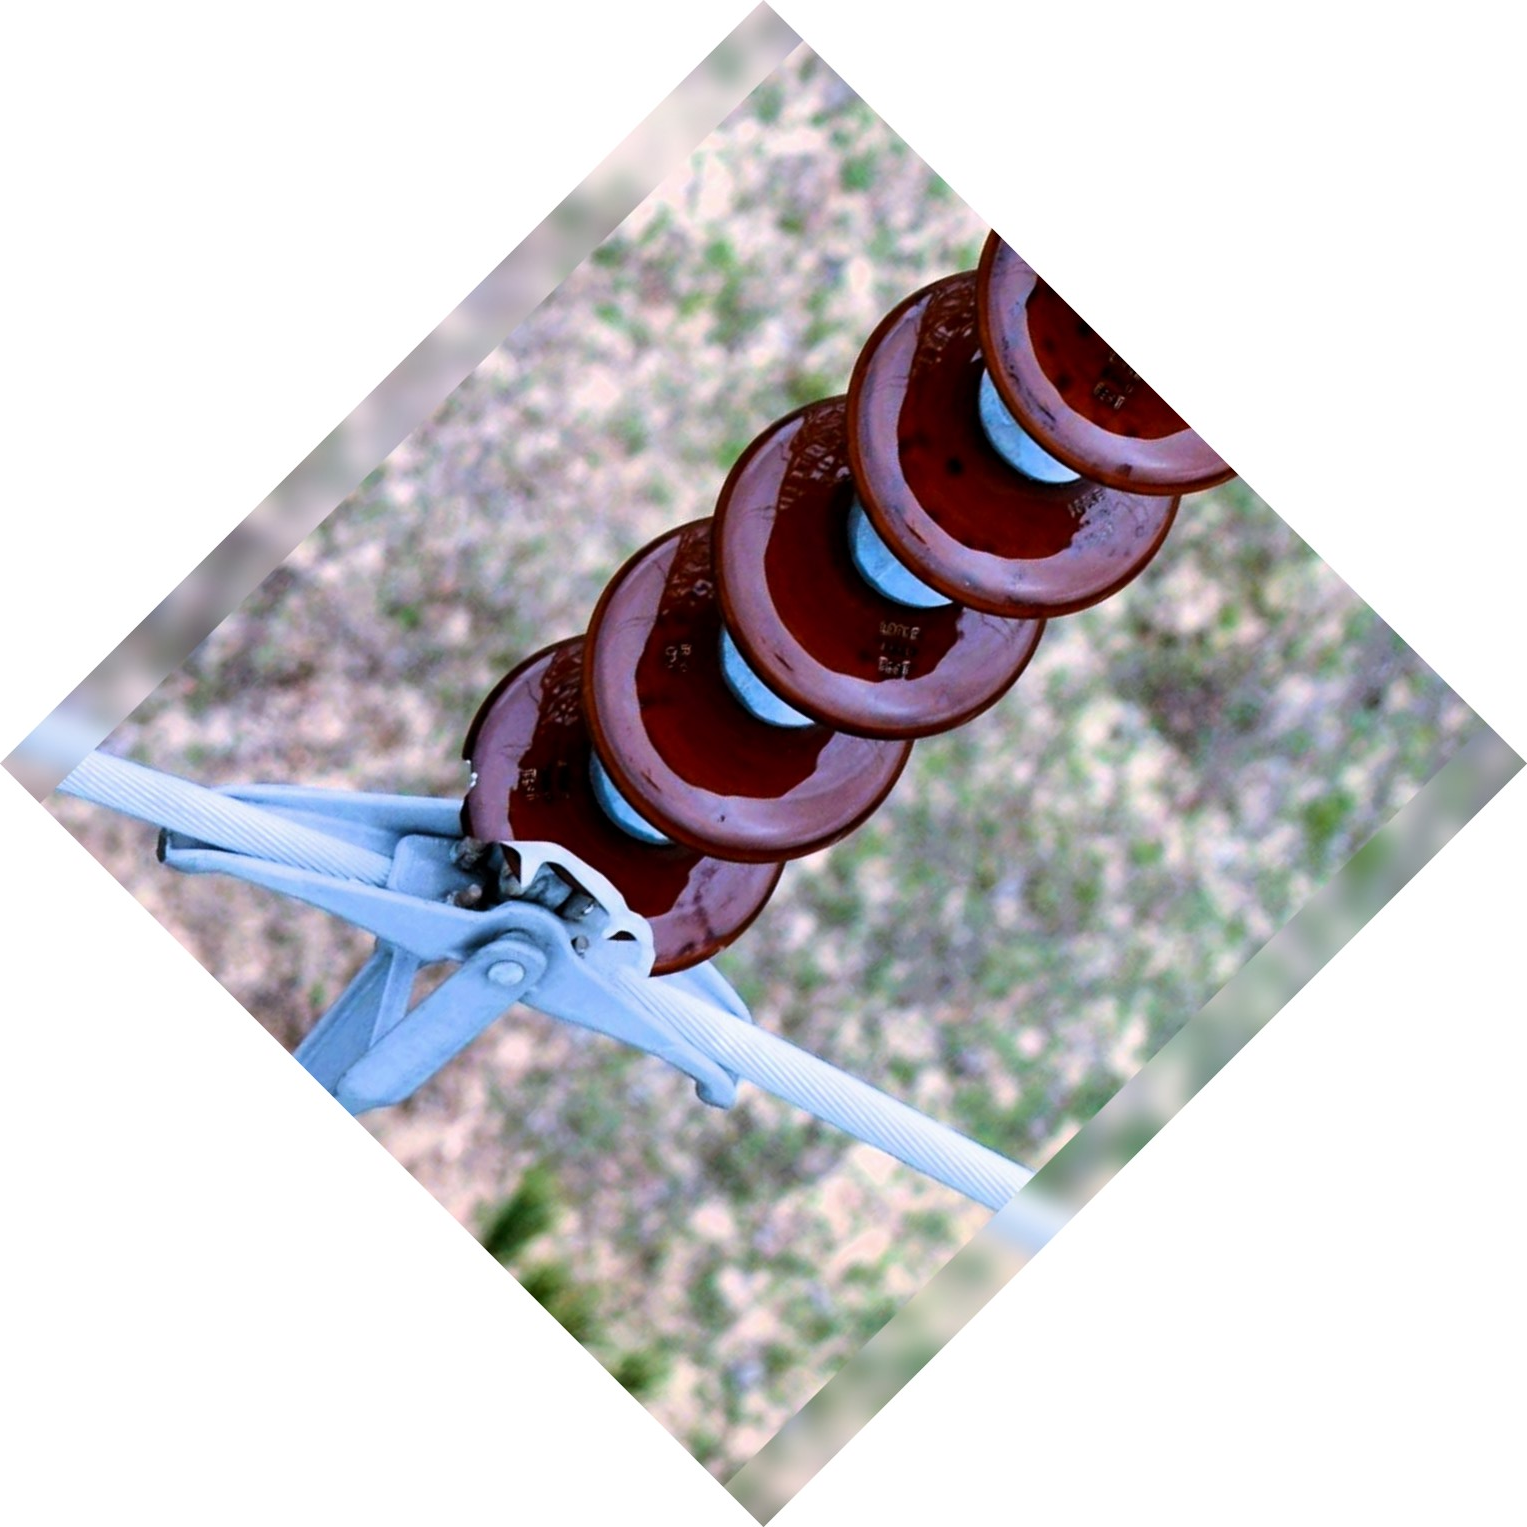insulator breakage: (432, 661, 757, 987)
